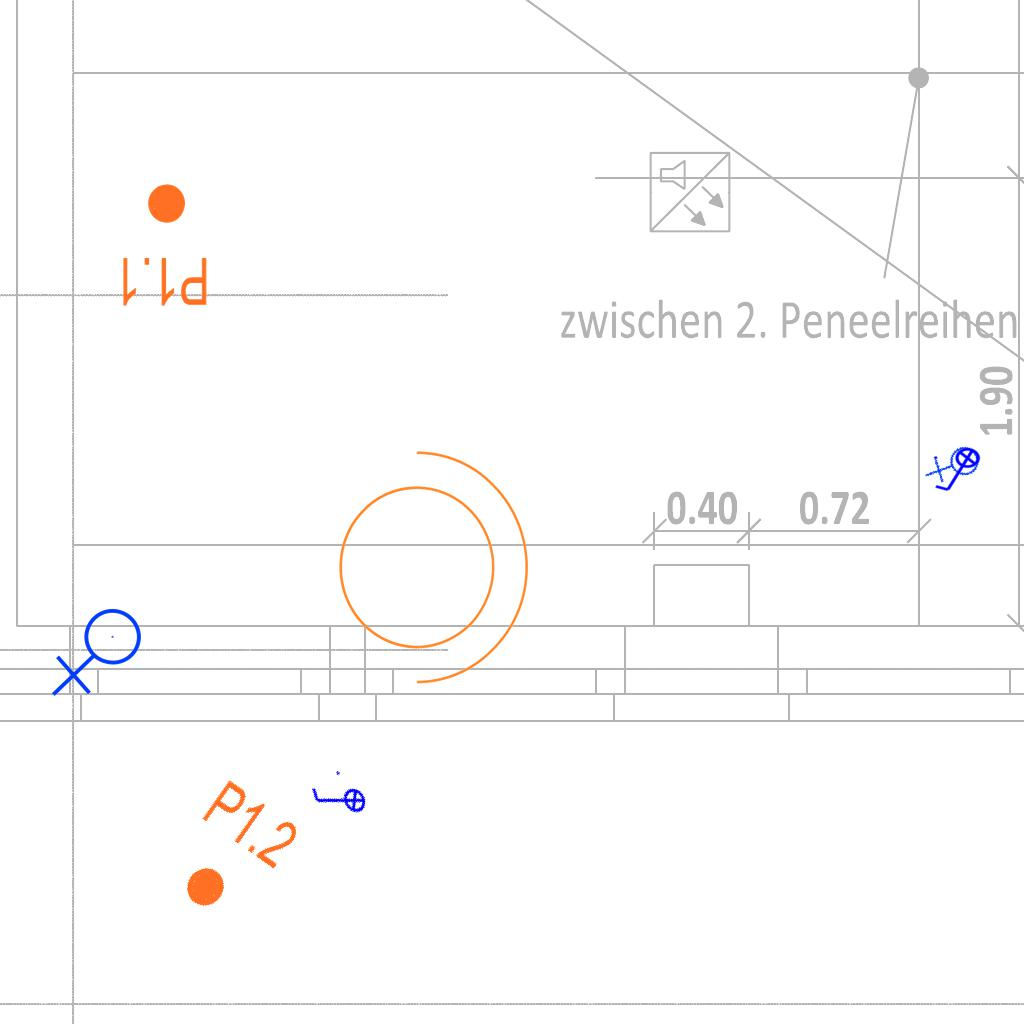Ausschalter_beleuchtet: (303, 763, 375, 837), (930, 446, 988, 496)
Downlight_LED_Einbauleuchten_Flur: (155, 774, 306, 934), (117, 181, 210, 309)
Elektroanschluss_allgemein_230V_Geraeteanschlussdose_230V: (51, 607, 150, 701), (923, 435, 988, 498)
Scheinwerfer_fuer_Alarmbeleuchtung: (314, 429, 539, 693)
